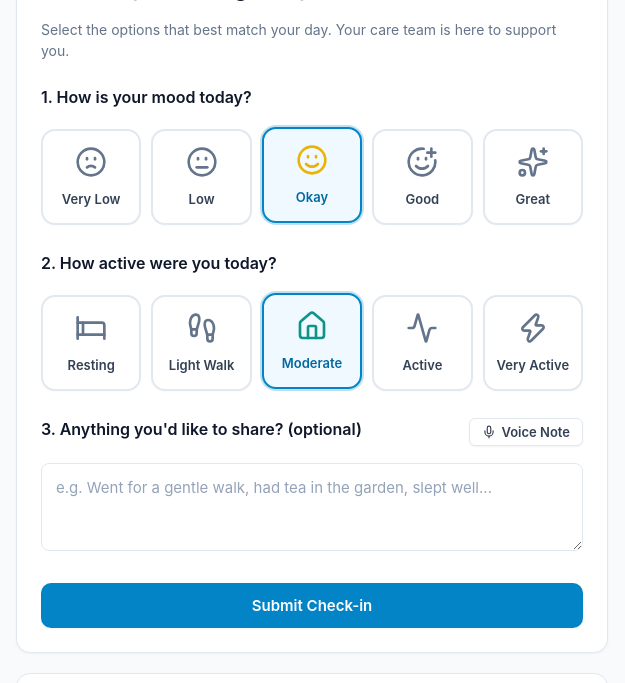
Test: ElderCheckin › allows selecting mood and activity rating options and submitting check-in
Click the radio button with aria-label "5 - Great": click(533, 177) [483,129,583,225]
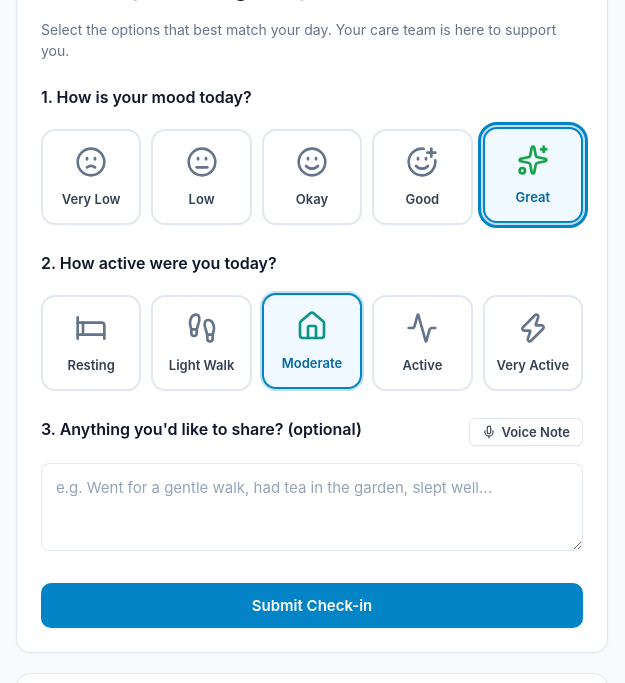
Click the radio button with aria-label "4 - Active": click(422, 343) [372,295,473,391]
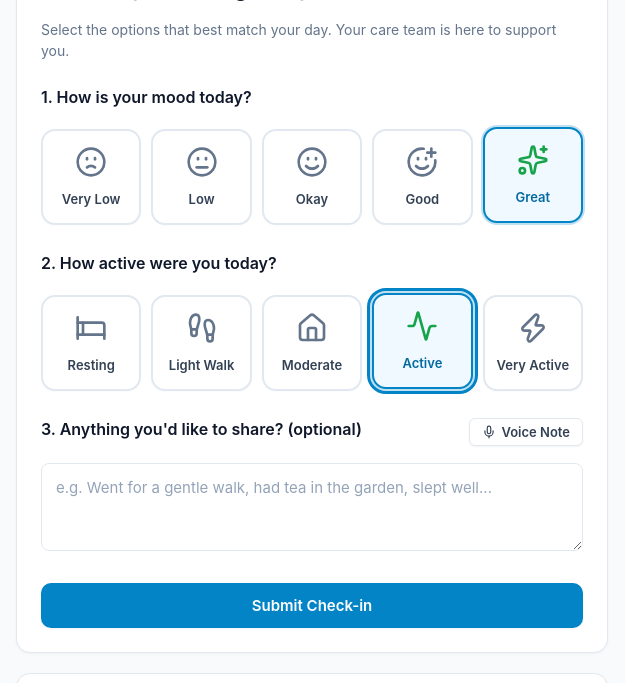
Expected: the radio button with aria-label "5 - Great" is checked, [483,127,583,223]
Expected: the radio button with aria-label "4 - Active" is checked, [372,293,473,389]
// Add note and submit
In the text box labelled "3. Anything you'd like to share? (optional)": (312, 507) [41,463,583,551], type "Feeling energetic today!"
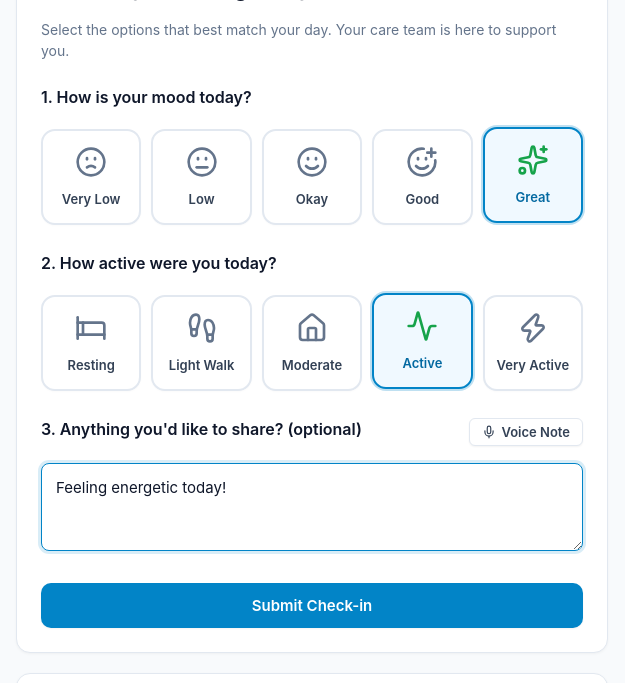
Click the button "Submit Check-in": click(312, 606) [41,583,583,628]
(page scrolled)
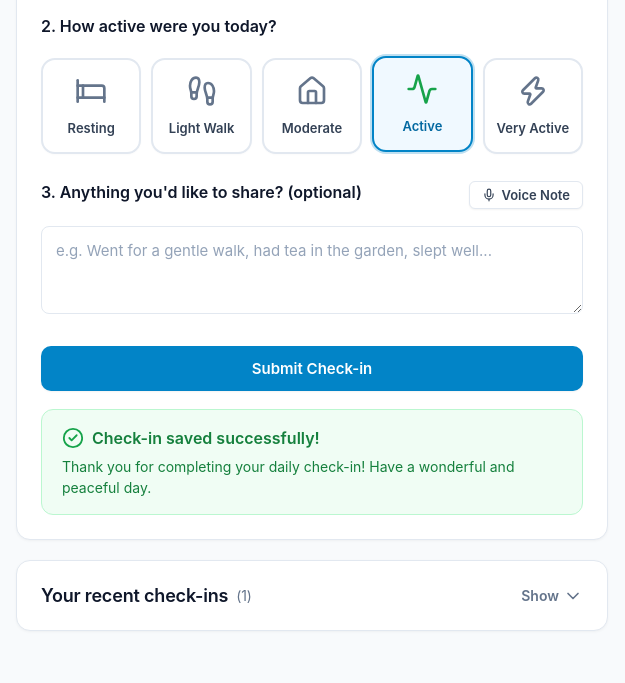
Expected: the text "Check-in saved successfully!" is shown, [62,427,320,449]
